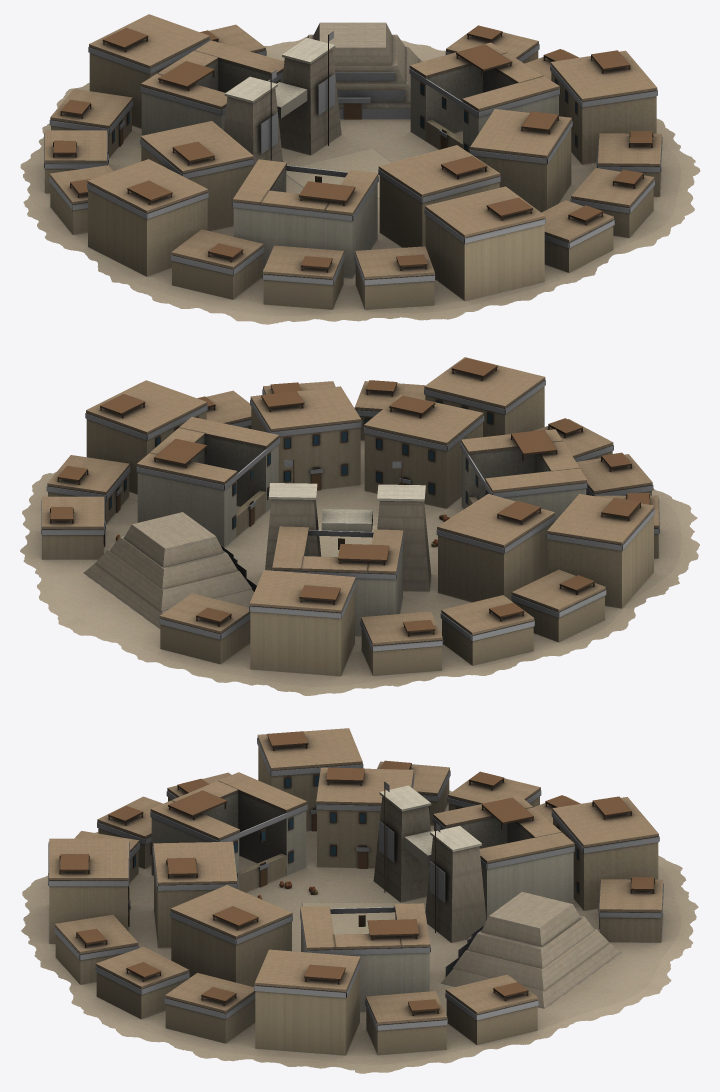
Rendered from bronze-town-big-a-nile.glb.
The picture shows the model from 3 angles, top to bottom: view 1: azimuth 30°, elevation 25°; view 2: azimuth 150°, elevation 25°; view 3: azimuth 270°, elevation 25°; orthographic projection.
Parts seen in each view (by area): view 1: LOD0; view 2: LOD0; view 3: LOD0.
Part boxes in pixels (box(x1,y1,x2,y2)): LOD0: box(20, 14, 700, 324); LOD0: box(20, 357, 699, 695); LOD0: box(21, 728, 698, 1073).
Size of what is drawn, in the model's own units: 7.97 by 1.42 by 7.91.
Materials: 3 (3 with a texture image).
